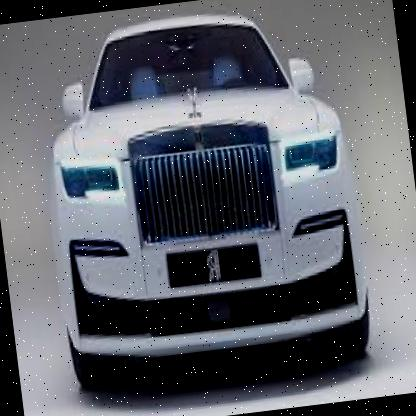car: (25, 0, 386, 400)
